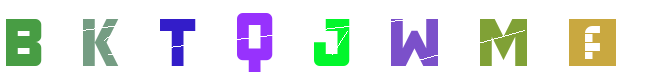7: (552, 0, 632, 80)
B: (87, 0, 167, 80)
J: (290, 0, 370, 80)
K: (137, 0, 217, 80)
M: (369, 0, 449, 80)
Q: (227, 0, 307, 80)
T: (214, 0, 294, 80)
W: (294, 0, 374, 80)
